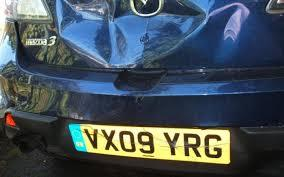Dickey: (42, 0, 284, 65)
